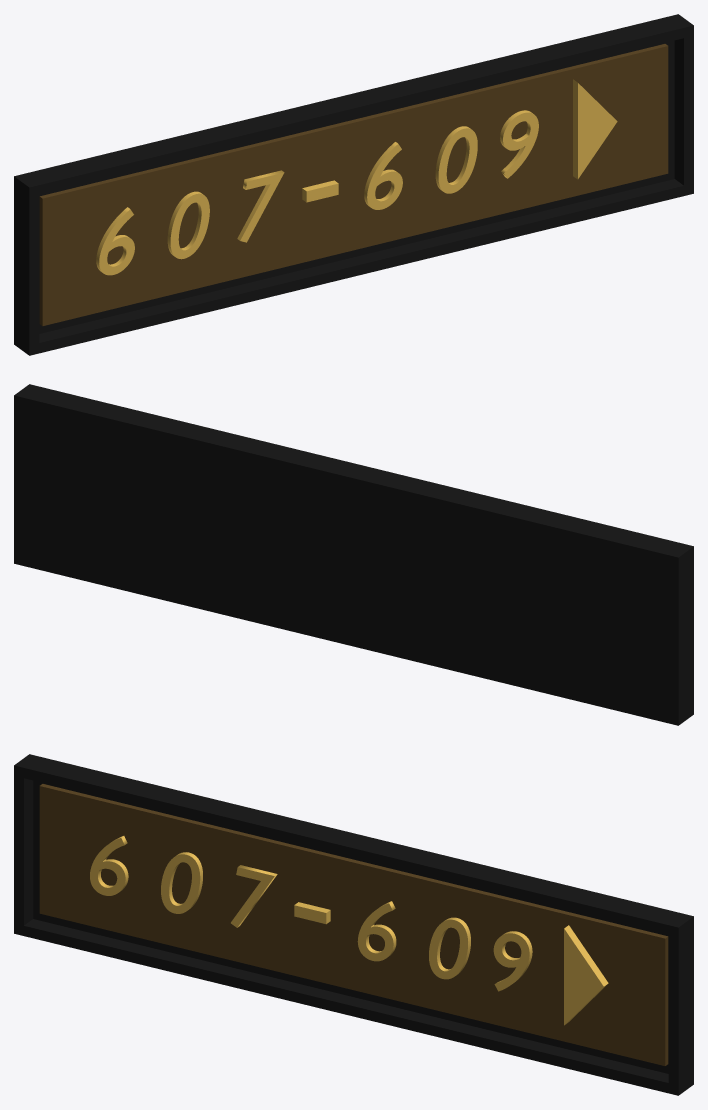
Rendered from Sign607_609.fbx.
3 renders of one model, top to bottom at view 1: azimuth 30°, elevation 25°; view 2: azimuth 150°, elevation 25°; view 3: azimuth 330°, elevation 25°, orthographic.
Parts seen in each view (by area): view 1: sign607_609; view 2: sign607_609; view 3: sign607_609.
Boxes of the visible parts, box(x1,y1,x2,y2) form: sign607_609: box(14, 14, 693, 355); sign607_609: box(14, 384, 693, 725); sign607_609: box(14, 754, 693, 1095).
Size of the model in its own units: 124 by 30 by 5.
